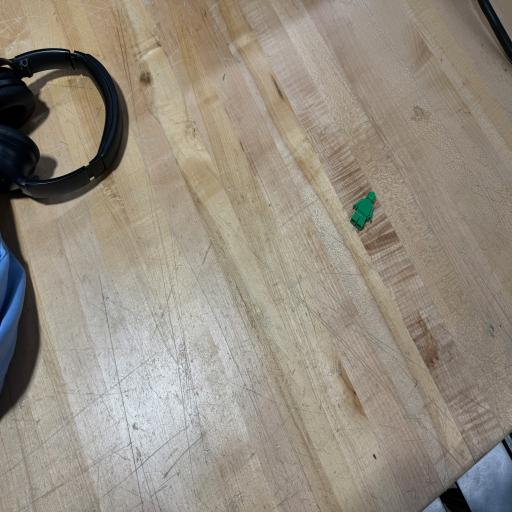Lego-Dude: (350, 191, 375, 230)
